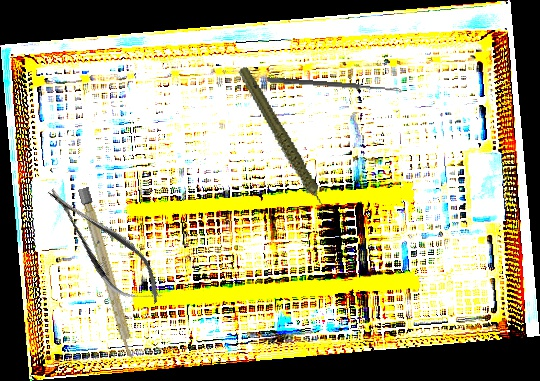Handpiece: (236, 55, 329, 231)
Micro Scissor: (33, 172, 175, 320)
Scalpel Handle: (77, 186, 138, 361)
Surgical Spoon: (266, 77, 403, 93)
